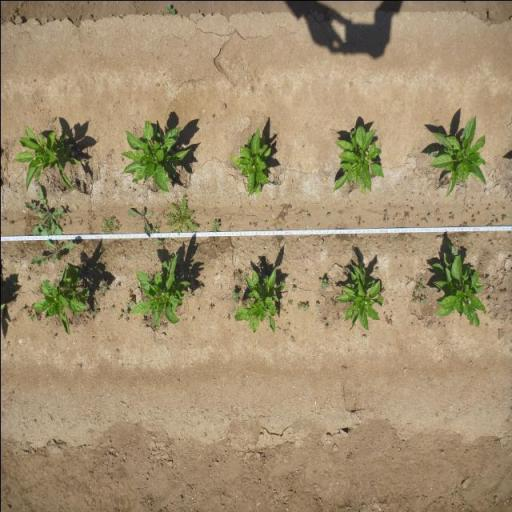plant: (120, 116, 190, 194), (429, 241, 485, 328), (12, 124, 80, 191), (435, 113, 483, 198), (131, 250, 187, 321), (330, 126, 384, 196), (334, 259, 383, 331), (40, 264, 88, 334), (229, 124, 272, 197), (240, 260, 282, 334)
weed: (24, 188, 62, 236), (163, 192, 197, 232), (28, 239, 74, 267), (126, 205, 152, 234), (100, 216, 118, 234), (96, 282, 108, 300), (412, 278, 426, 292), (230, 287, 240, 303), (412, 292, 426, 303), (86, 307, 100, 317), (296, 300, 308, 311), (426, 145, 436, 158), (26, 308, 35, 321), (318, 278, 327, 290), (234, 269, 242, 282), (124, 297, 133, 307), (212, 218, 218, 232), (384, 314, 392, 324), (151, 223, 159, 233), (154, 237, 162, 247), (382, 209, 388, 222), (8, 314, 16, 323), (159, 321, 167, 329), (36, 311, 42, 321), (187, 290, 194, 298), (459, 220, 467, 227), (198, 280, 204, 289), (448, 211, 454, 220), (485, 220, 494, 226), (335, 310, 340, 320), (18, 305, 24, 313), (120, 308, 126, 316), (486, 296, 492, 304), (420, 216, 428, 222), (124, 315, 130, 322), (208, 303, 214, 310), (434, 207, 440, 214), (127, 287, 132, 295), (356, 216, 360, 226), (286, 299, 292, 305), (314, 302, 320, 308), (252, 220, 257, 227), (403, 211, 408, 218), (51, 334, 56, 340), (291, 286, 296, 292), (492, 287, 497, 293), (501, 214, 506, 220), (226, 313, 230, 320), (108, 306, 114, 310), (118, 314, 122, 320), (140, 318, 144, 324), (196, 306, 200, 312), (279, 305, 283, 311), (486, 275, 490, 281), (248, 220, 252, 226), (410, 205, 414, 211), (483, 186, 487, 192), (486, 202, 489, 210), (114, 283, 118, 288), (190, 316, 194, 321), (324, 324, 328, 329), (325, 212, 330, 216), (494, 218, 498, 223), (489, 240, 493, 245), (78, 219, 82, 224), (265, 226, 269, 230), (306, 214, 310, 218), (394, 212, 398, 216), (414, 214, 418, 218), (427, 212, 430, 217), (476, 210, 479, 215), (491, 214, 496, 217), (410, 321, 413, 326), (292, 278, 295, 282), (322, 318, 326, 321), (263, 220, 266, 224), (264, 204, 267, 208), (337, 210, 340, 214), (416, 222, 418, 228), (436, 217, 439, 221), (470, 219, 474, 222), (471, 214, 474, 218), (441, 218, 443, 224), (399, 264, 402, 268), (507, 256, 512, 258), (270, 204, 271, 210), (476, 234, 479, 236), (508, 232, 511, 234), (304, 270, 306, 272), (466, 210, 468, 212)
